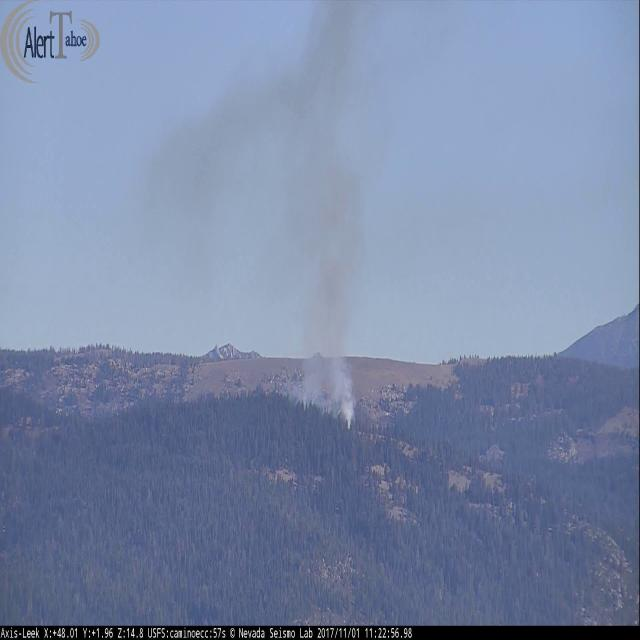smoke: (128, 1, 424, 433)
